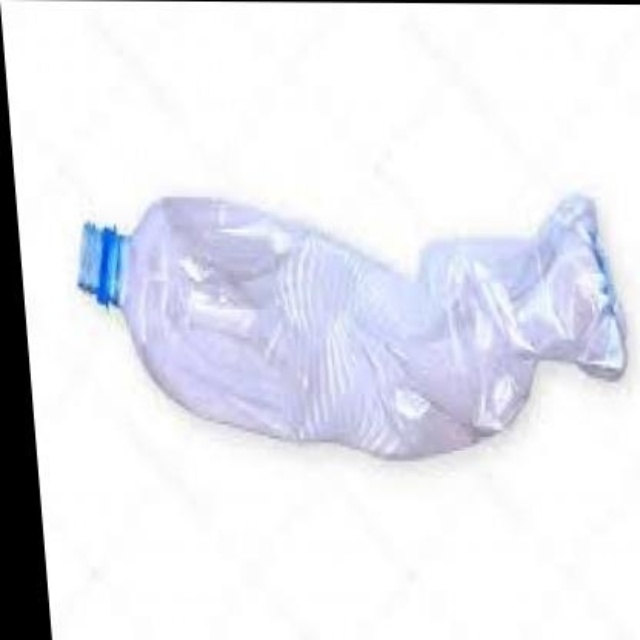trash: (78, 195, 625, 455)
